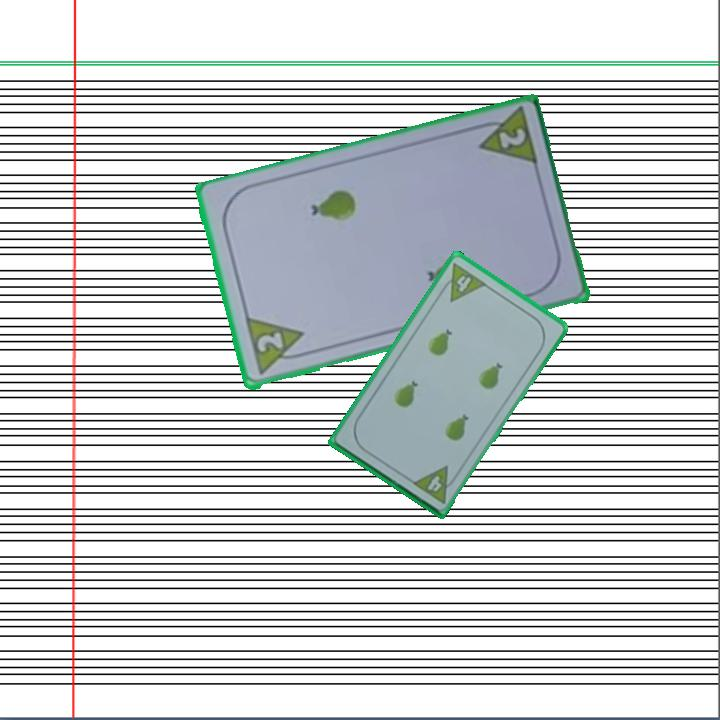2p: (469, 106, 540, 170), (241, 315, 311, 379)
4p: (435, 259, 489, 305), (409, 462, 461, 506)
